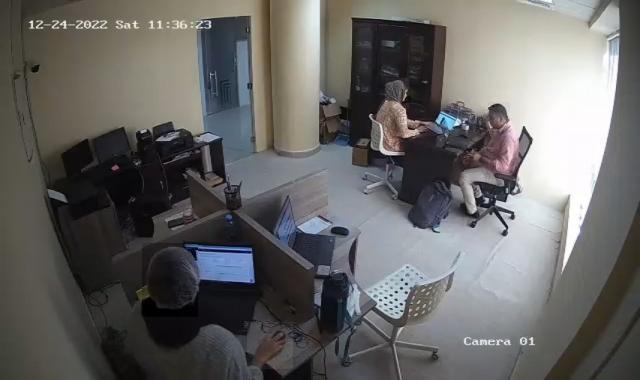gloves: (142, 244, 198, 318)
no_apron: (248, 322, 294, 370), (465, 149, 489, 172), (415, 119, 437, 137)
no_gloves: (386, 78, 410, 108), (488, 102, 510, 132)
no_hairnet: (487, 108, 506, 132), (401, 90, 411, 104)
